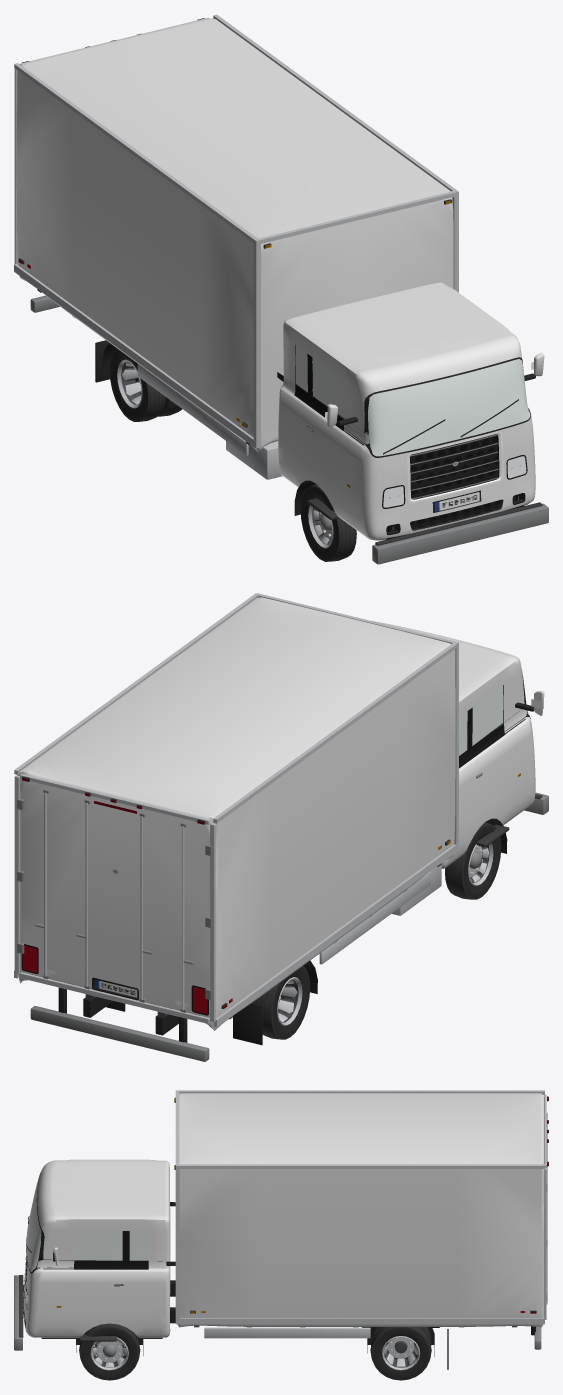
Rendered from TrafficBoxTruckA_complete_unity.fbx.
3 views of the same model, one above another, from view 1: azimuth 30°, elevation 25°; view 2: azimuth 150°, elevation 25°; view 3: azimuth 270°, elevation 25° (orthographic). The views are drawn at different scales.
Visible parts, largest first — view 1: Body_LOD0, Trim_LOD0, Wheel_RR_LOD0, Wheel_FR_LOD0, Glass_LOD0, Lights_LOD0; view 2: Body_LOD0, Trim_LOD0, Wheel_FR_LOD0, Wheel_RR_LOD0, Glass_LOD0, Lights_LOD0; view 3: Body_LOD0, Trim_LOD0, Wheel_RL_LOD0, Wheel_FL_LOD0, Glass_LOD0.
Boxes of the visible parts, box(x1,y1,x2,y2) form: Body_LOD0: box(16, 18, 544, 540); Trim_LOD0: box(14, 14, 548, 564); Wheel_RR_LOD0: box(109, 348, 182, 421); Wheel_FR_LOD0: box(300, 484, 356, 561); Glass_LOD0: box(295, 345, 344, 418); Lights_LOD0: box(18, 200, 526, 507); Body_LOD0: box(17, 597, 544, 1030); Trim_LOD0: box(14, 593, 548, 1061); Wheel_FR_LOD0: box(445, 822, 501, 899); Wheel_RR_LOD0: box(252, 966, 310, 1039); Glass_LOD0: box(459, 685, 503, 755); Lights_LOD0: box(22, 773, 520, 1014); Body_LOD0: box(23, 1093, 544, 1337); Trim_LOD0: box(14, 1090, 548, 1369); Wheel_RL_LOD0: box(370, 1327, 431, 1380); Wheel_FL_LOD0: box(79, 1323, 140, 1380); Glass_LOD0: box(74, 1231, 148, 1260).
Size of what is drawn, in the model's own units: 2.54 by 3.25 by 7.07.
